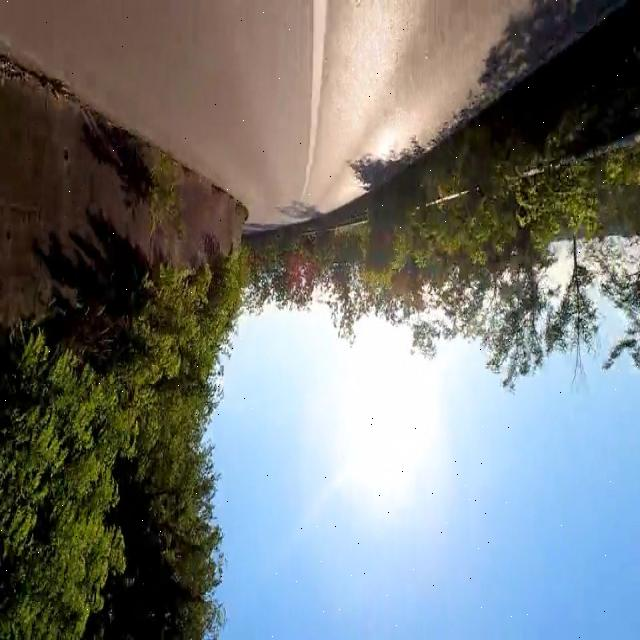lane: (301, 1, 327, 201)
road: (1, 2, 608, 230)
